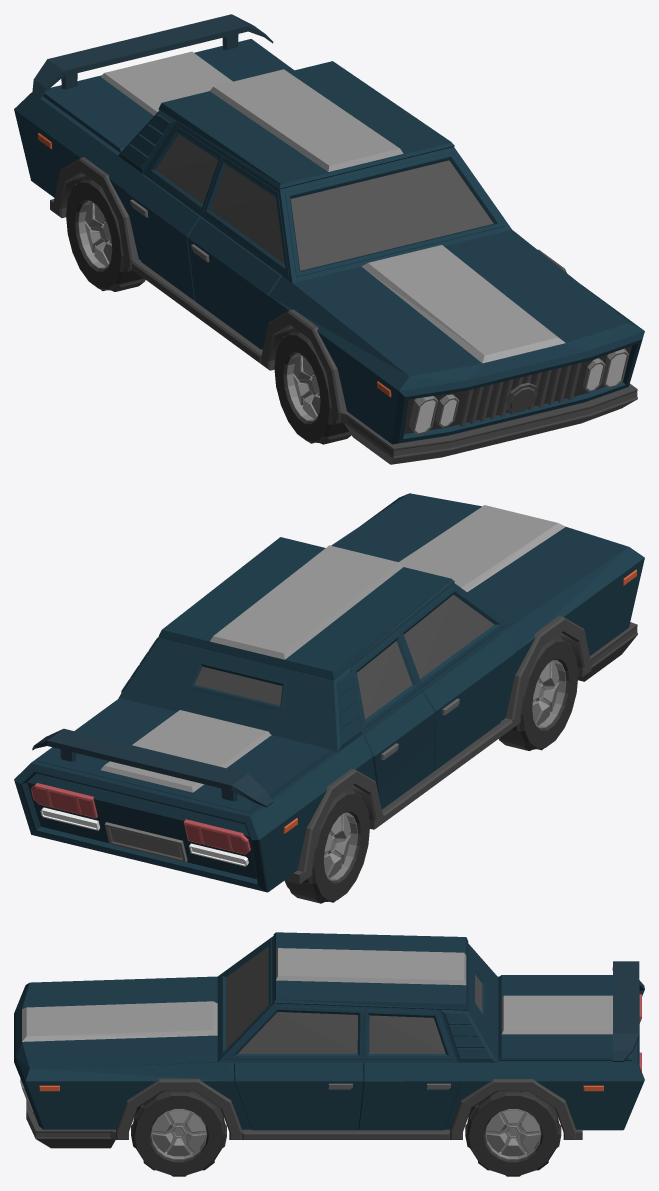
The model's file is super.glb.
3 views of the same model, one above another, from view 1: azimuth 30°, elevation 25°; view 2: azimuth 150°, elevation 25°; view 3: azimuth 270°, elevation 25° (orthographic). The views are drawn at different scales.
Visible parts, largest first — view 1: body, wheel_rear_L, wheel_front_L; view 2: body, wheel_rear_L, wheel_front_L; view 3: body, wheel_rear_R, wheel_front_R.
Part boxes in pixels (x1,y1,x2,y2): body: (14,14,644,464); wheel_rear_L: (66,176,145,291); wheel_front_L: (274,328,351,444); body: (14,493,644,892); wheel_rear_L: (285,787,369,903); wheel_front_L: (499,635,578,750); body: (14,932,644,1148); wheel_rear_R: (465,1091,561,1176); wheel_front_R: (131,1091,226,1176).
Size of the model in its own units: 1.79 by 1.41 by 4.81.
Materials: 1 (1 with a texture image).
